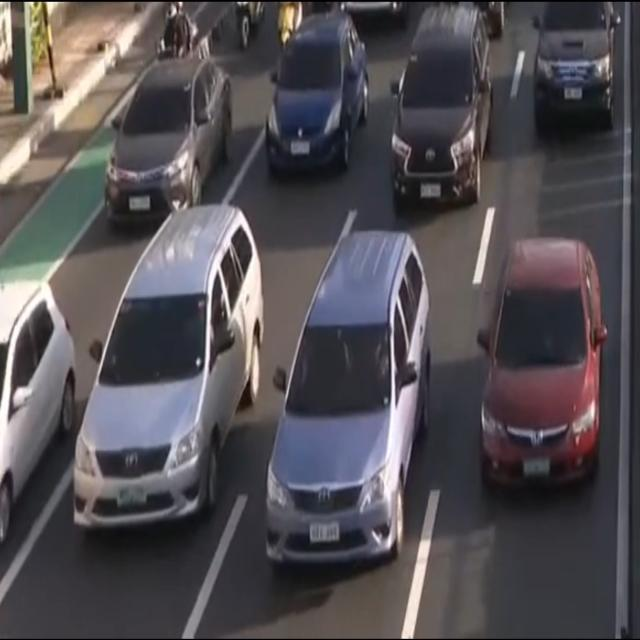SUV: (258, 216, 450, 594), (66, 188, 254, 547), (384, 0, 500, 219)
Sedan: (473, 201, 611, 492), (90, 34, 260, 228), (0, 217, 87, 557), (262, 0, 377, 204)
